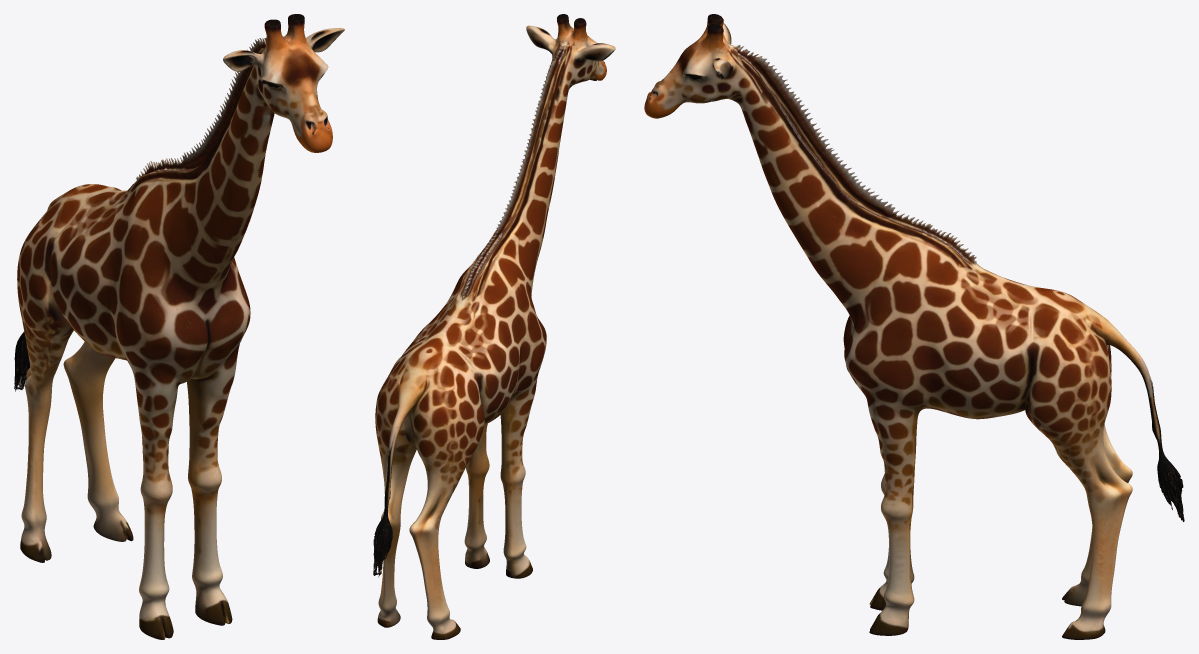
The model's file is Guraffe.fbx.
3 renders of one model, left to right at view 1: azimuth 30°, elevation 25°; view 2: azimuth 150°, elevation 25°; view 3: azimuth 270°, elevation 25°, orthographic. The views are drawn at different scales.
Visible parts, largest first — view 1: world; view 2: world; view 3: world.
Part boxes in pixels (bbox=[...]): world: bbox=[14, 14, 344, 639]; world: bbox=[373, 14, 615, 639]; world: bbox=[644, 14, 1184, 639].
Bounding box in the file's own units: 39.82 × 199 × 163.
Materials: 1 (1 with a texture image).
